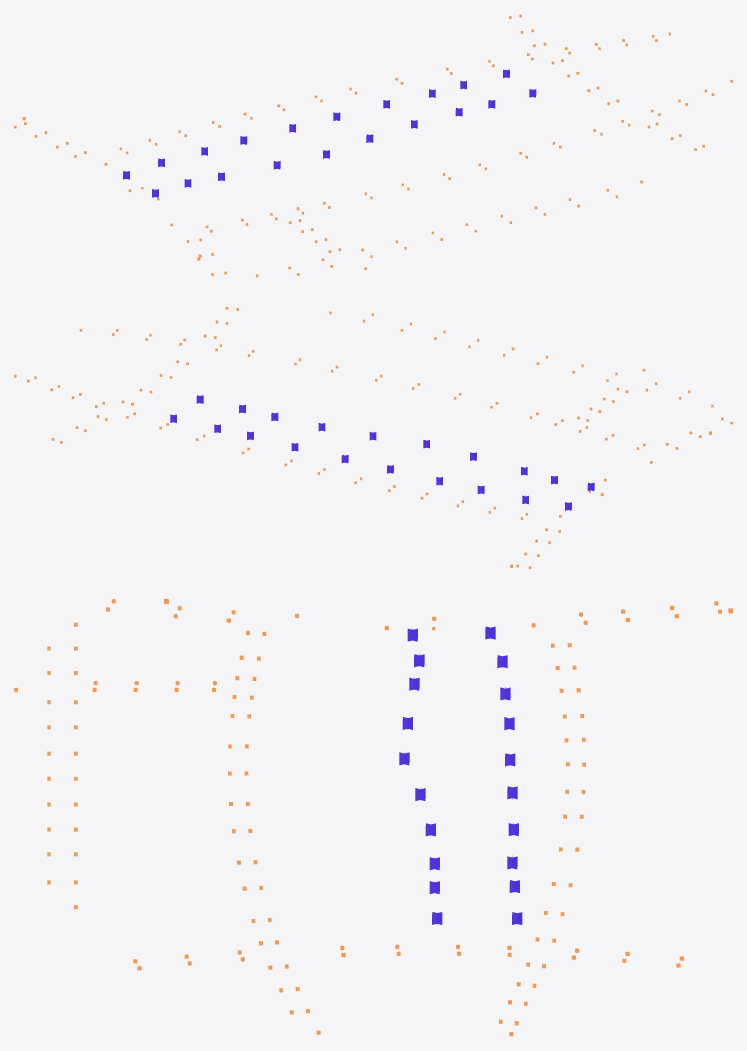
Rendered from ludeng.FBX.
3 views of the same model, one above another, from view 1: azimuth 30°, elevation 25°; view 2: azimuth 150°, elevation 25°; view 3: azimuth 270°, elevation 25° (orthographic). The views are drawn at different scales.
Bounding box in the file's own units: 427986 × 6072 × 299209.
